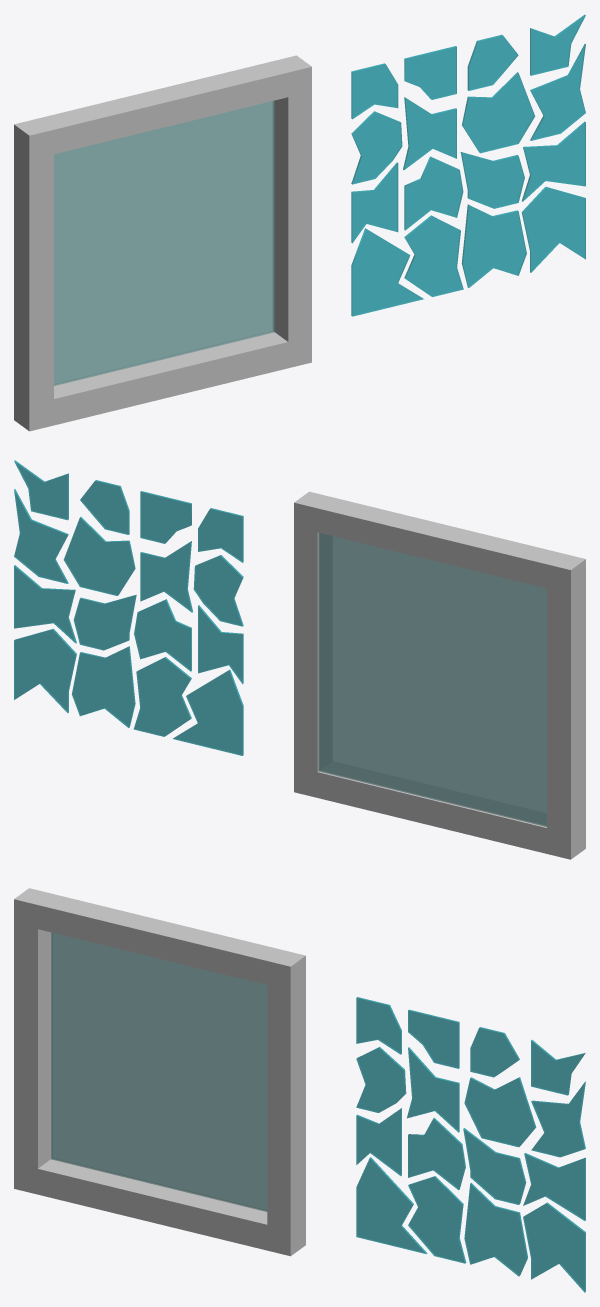
Rendered from VENTANA.fbx.
The picture shows the model from 3 angles, top to bottom: view 1: azimuth 30°, elevation 25°; view 2: azimuth 150°, elevation 25°; view 3: azimuth 330°, elevation 25°; orthographic projection. The views are drawn at different scales.
Parts seen in each view (by area): view 1: Ventana1, Marco, polySurface1, polySurface6, polySurface2, polySurface11, polySurface4, polySurface16, polySurface14, polySurface15, polySurface12, polySurface9 (+6 smaller); view 2: Ventana1, Marco, polySurface1, polySurface6, polySurface2, polySurface11, polySurface4, polySurface16, polySurface14, polySurface15, polySurface12, polySurface9 (+6 smaller); view 3: Ventana1, Marco, polySurface1, polySurface6, polySurface2, polySurface11, polySurface4, polySurface16, polySurface15, polySurface14, polySurface12, polySurface10 (+6 smaller).
Part boxes in pixels (x1,y1,x2,y2): Ventana1: (54,100,274,385); Marco: (14,55,311,431); polySurface1: (351,228,423,316); polySurface6: (461,204,526,287); polySurface2: (521,186,585,272); polySurface11: (462,72,535,153); polySurface4: (404,215,463,296); polySurface16: (522,121,585,201); polySurface14: (404,156,463,230); polySurface15: (460,152,524,208); polySurface12: (530,44,585,140); polySurface9: (351,111,402,184); Ventana1: (318,533,546,826); Marco: (294,491,585,859); polySurface1: (173,669,243,755); polySurface6: (71,646,135,727); polySurface2: (14,628,76,713); polySurface11: (63,517,135,595); polySurface4: (133,657,191,736); polySurface16: (14,565,76,643); polySurface14: (134,599,191,671); polySurface15: (73,594,136,650); polySurface12: (14,489,68,583); polySurface9: (193,555,243,626); Ventana1: (51,932,267,1211); Marco: (14,888,305,1256); polySurface1: (356,1157,427,1254); polySurface6: (464,1182,527,1276); polySurface2: (523,1202,585,1292); polySurface11: (464,1077,536,1147); polySurface4: (408,1176,466,1263); polySurface16: (523,1153,585,1220); polySurface15: (463,1128,526,1204); polySurface14: (408,1118,465,1190); polySurface12: (531,1081,585,1157); polySurface10: (407,1047,459,1132).
Bounding box in the file's own units: 2.44 × 1.21 × 0.1149.
